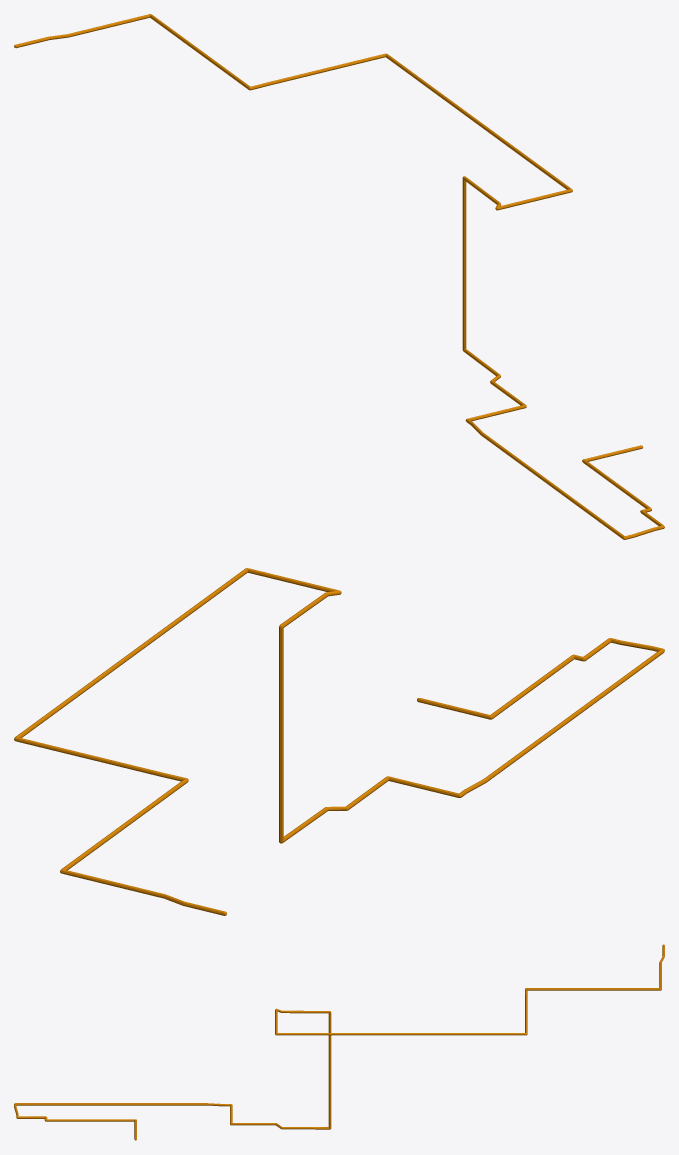
3 renders of one model, top to bottom at view 1: azimuth 30°, elevation 25°; view 2: azimuth 150°, elevation 25°; view 3: azimuth 270°, elevation 25°, orthographic. The views are drawn at different scales.
Size of the model in its own units: 1656 by 1020 by 5078.
